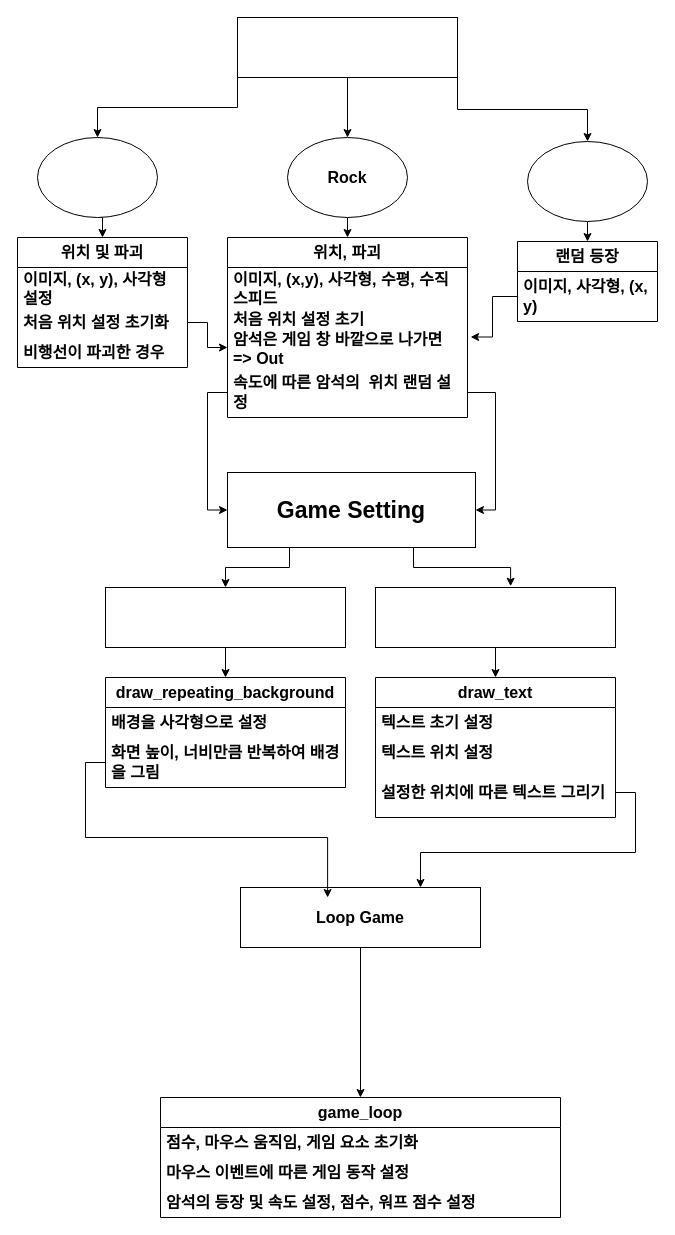
Image size: 675x1235. Some labels were removed from this diagram. The centre of each missing label's shape, as x and y in pixels:
"Background_Img" goes at [225,617].
"Game Start" goes at [347,47].
"SpaceShip" goes at [97,177].
"Text" goes at [495,617].
"Warp" goes at [587,181].
